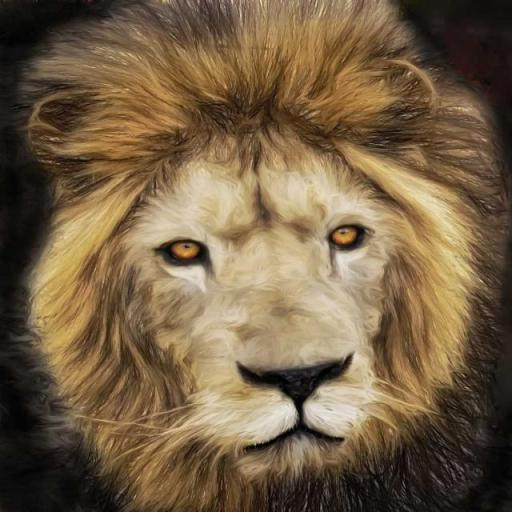Lion: (1, 0, 510, 511)
